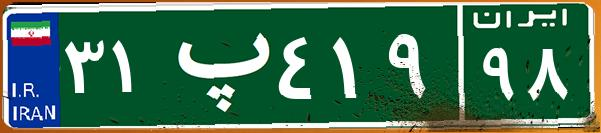1: (330, 28, 385, 110), (110, 28, 158, 105)
3: (57, 26, 110, 107)
4: (273, 28, 330, 110)
8: (525, 38, 570, 115)
9: (385, 28, 445, 110), (475, 38, 525, 113)
پ: (158, 15, 273, 115)
